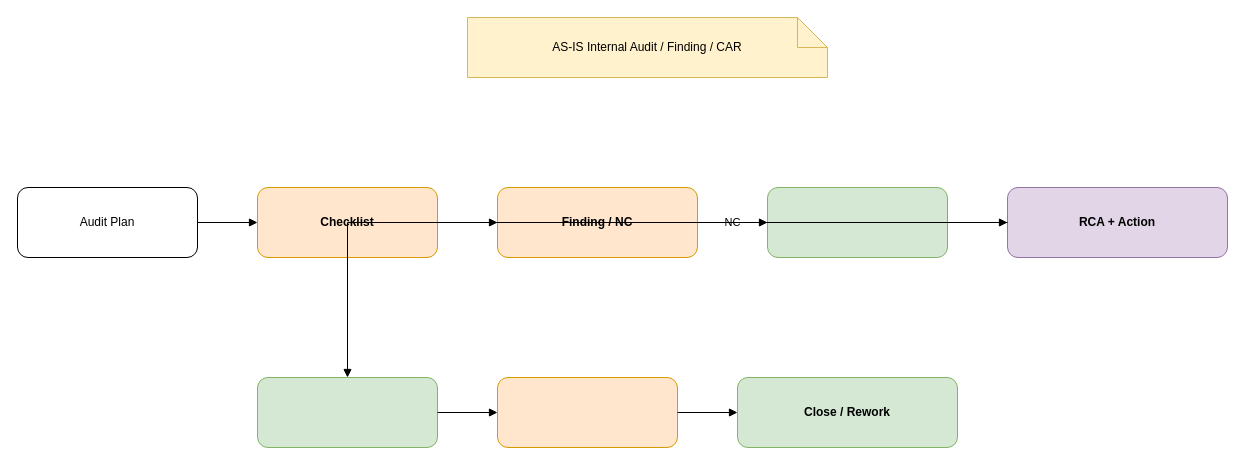
Some shapes in this 1245 by 465 pixel diagram are drawn without their labels. The shapes that lost their labels are listed below. From the top down, each one's centre as x and y in pixels, then its label:
point 857,222: Open CAR
point 347,412: Evidence
point 587,412: Verify
